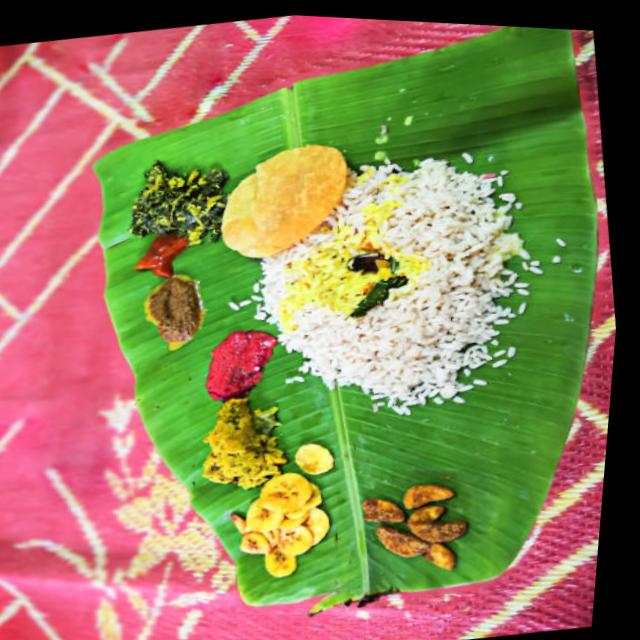BANANA CHIPS: (237, 445, 338, 577)
CURRY: (207, 397, 282, 490)
GREEN CHUTNEY: (147, 272, 202, 348)
PAPADAM: (220, 141, 339, 261)
PICKLE: (130, 235, 190, 279)
RED CHUTNEY: (204, 327, 281, 400)
RICE: (253, 144, 525, 411)
VEGGIES: (356, 481, 478, 563), (132, 164, 223, 242)
